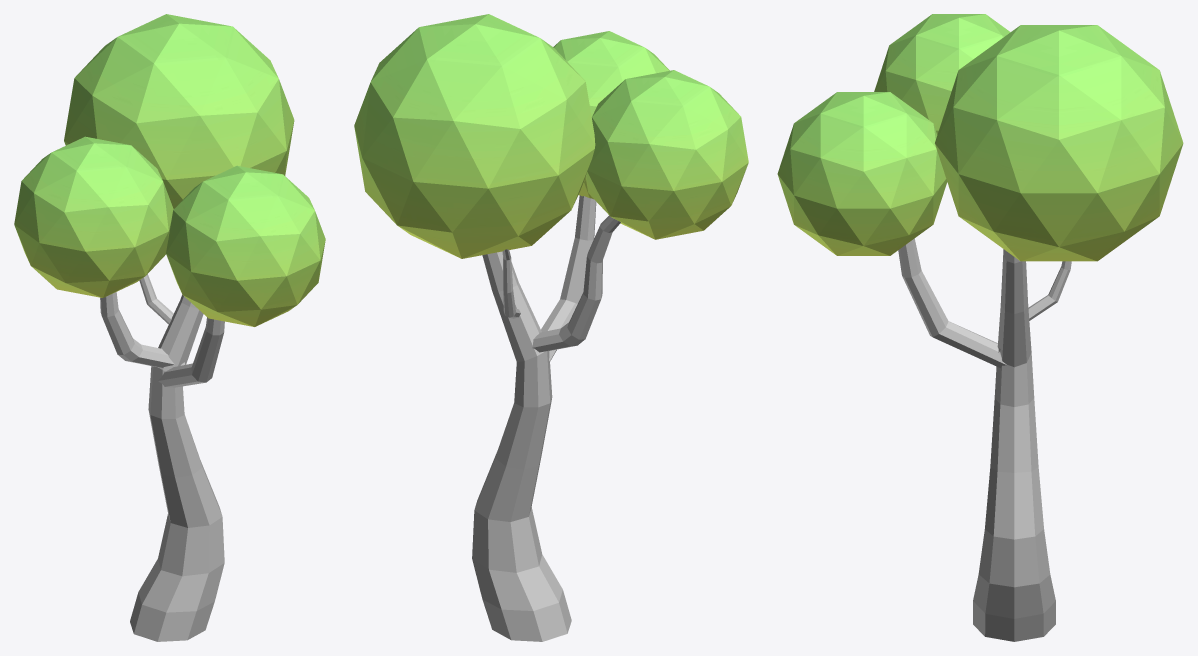
The model's file is Tree1.fbx.
3 views of the same model, side by side, from view 1: azimuth 30°, elevation 25°; view 2: azimuth 150°, elevation 25°; view 3: azimuth 270°, elevation 25° (orthographic). The views are drawn at different scales.
Visible parts, largest first — view 1: Icosphere.002; view 2: Icosphere.002; view 3: Icosphere.002.
Part boxes in pixels (bbox=[...]): Icosphere.002: bbox=[14, 14, 325, 641]; Icosphere.002: bbox=[354, 14, 748, 641]; Icosphere.002: bbox=[777, 14, 1183, 641].
Size of the model in its own units: 420 by 782 by 471.
